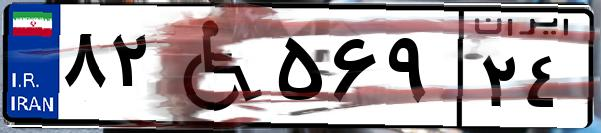2: (475, 38, 525, 113), (110, 28, 158, 98)
4: (525, 38, 570, 115)
5: (270, 28, 330, 110)
6: (330, 28, 385, 110)
8: (57, 26, 110, 100)
9: (385, 28, 445, 110)
ژ (معلولین و جانبازان): (158, 12, 270, 120)
